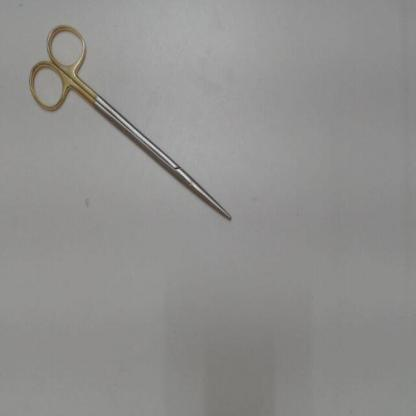7 Metzenbaum Scissors: (23, 18, 236, 228)
